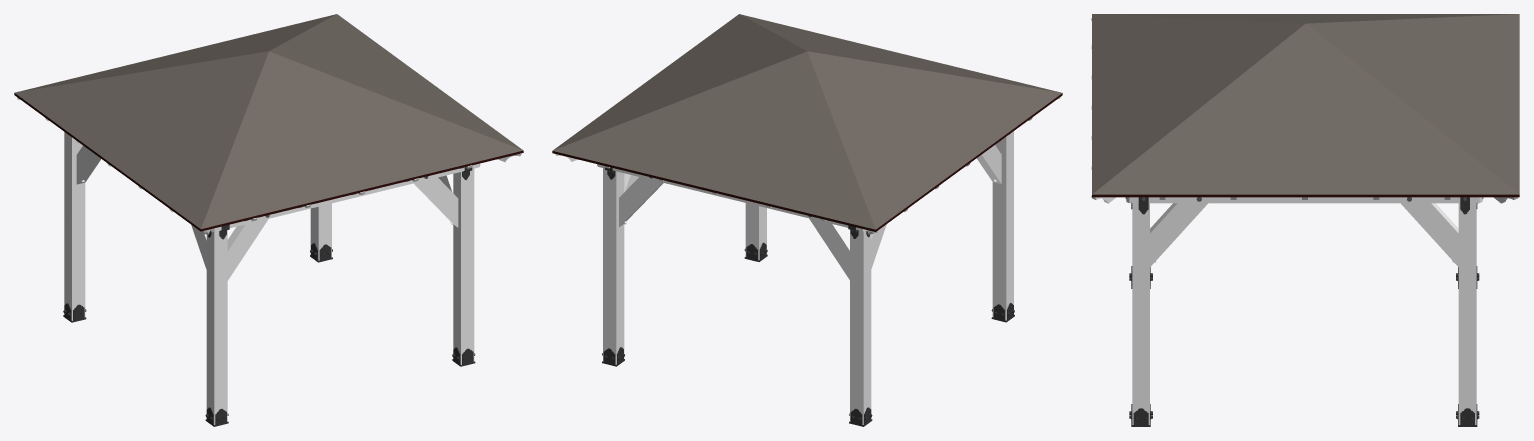
File: saratoga-12x12-cove.obj
3 views of the same model, side by side, from view 1: azimuth 30°, elevation 25°; view 2: azimuth 150°, elevation 25°; view 3: azimuth 270°, elevation 25° (orthographic). The views are drawn at different scales.
Parts seen in each view (by area): view 1: Mesh226 shingles roof Group1 Model, Mesh177 Group70 Component_92_4 Group1 Model, Mesh79 Group42 Component_92_2 Group1 Model, Mesh128 Group56 Component_92_3 Group1 Model, Mesh227 roof Group1 Model, Mesh217 Component_91_7 Component_92_4 Group1 Model, Mesh75 Component_135_1 Group1 Model, Mesh119 Component_91_3 Component_92_2 Group1 Model, Mesh1 Group3 Component_92_1 Group2 Group1 Model, Mesh172 Component_91_6 Component_92_3 Group1 Model; view 2: Mesh226 shingles roof Group1 Model, Mesh128 Group56 Component_92_3 Group1 Model, Mesh1 Group3 Component_92_1 Group2 Group1 Model, Mesh177 Group70 Component_92_4 Group1 Model, Mesh227 roof Group1 Model, Mesh168 Component_91_5 Component_92_3 Group1 Model, Mesh41 Component_91_1 Component_92_1 Group2 Group1 Model, Mesh79 Group42 Component_92_2 Group1 Model, Mesh77 Component_135_2 Group1 Model, Mesh221 Component_91_8 Component_92_4 Group1 Model; view 3: Mesh226 shingles roof Group1 Model, Mesh1 Group3 Component_92_1 Group2 Group1 Model, Mesh79 Group42 Component_92_2 Group1 Model, Mesh78 Component_134_2 Group1 Model, Mesh227 roof Group1 Model, Mesh45 Component_91_2 Component_92_1 Group2 Group1 Model, Mesh123 Component_91_4 Component_92_2 Group1 Model.
Boxes of the visible parts, x1,y1,x2,y2 form: Mesh226 shingles roof Group1 Model: [14, 14, 523, 228]; Mesh177 Group70 Component_92_4 Group1 Model: [206, 230, 227, 424]; Mesh79 Group42 Component_92_2 Group1 Model: [453, 169, 474, 364]; Mesh128 Group56 Component_92_3 Group1 Model: [64, 132, 85, 320]; Mesh227 roof Group1 Model: [14, 93, 523, 231]; Mesh217 Component_91_7 Component_92_4 Group1 Model: [227, 219, 268, 280]; Mesh75 Component_135_1 Group1 Model: [210, 163, 480, 231]; Mesh119 Component_91_3 Component_92_2 Group1 Model: [414, 177, 458, 227]; Mesh1 Group3 Component_92_1 Group2 Group1 Model: [310, 203, 331, 260]; Mesh172 Component_91_6 Component_92_3 Group1 Model: [76, 145, 100, 184]; Mesh226 shingles roof Group1 Model: [552, 14, 1061, 229]; Mesh128 Group56 Component_92_3 Group1 Model: [850, 229, 871, 424]; Mesh1 Group3 Component_92_1 Group2 Group1 Model: [603, 168, 624, 364]; Mesh177 Group70 Component_92_4 Group1 Model: [992, 131, 1013, 320]; Mesh227 roof Group1 Model: [552, 93, 1062, 231]; Mesh168 Component_91_5 Component_92_3 Group1 Model: [809, 218, 849, 279]; Mesh41 Component_91_1 Component_92_1 Group2 Group1 Model: [619, 177, 663, 226]; Mesh79 Group42 Component_92_2 Group1 Model: [745, 203, 766, 260]; Mesh77 Component_135_2 Group1 Model: [597, 164, 866, 231]; Mesh221 Component_91_8 Component_92_4 Group1 Model: [976, 145, 1001, 183]; Mesh226 shingles roof Group1 Model: [1092, 14, 1519, 194]; Mesh1 Group3 Component_92_1 Group2 Group1 Model: [1458, 203, 1476, 424]; Mesh79 Group42 Component_92_2 Group1 Model: [1132, 203, 1149, 424]; Mesh78 Component_134_2 Group1 Model: [1138, 197, 1470, 203]; Mesh227 roof Group1 Model: [1092, 194, 1519, 197]; Mesh45 Component_91_2 Component_92_1 Group2 Group1 Model: [1401, 203, 1458, 266]; Mesh123 Component_91_4 Component_92_2 Group1 Model: [1150, 203, 1207, 266].
Size of the model in its own units: 144 by 123 by 144.
